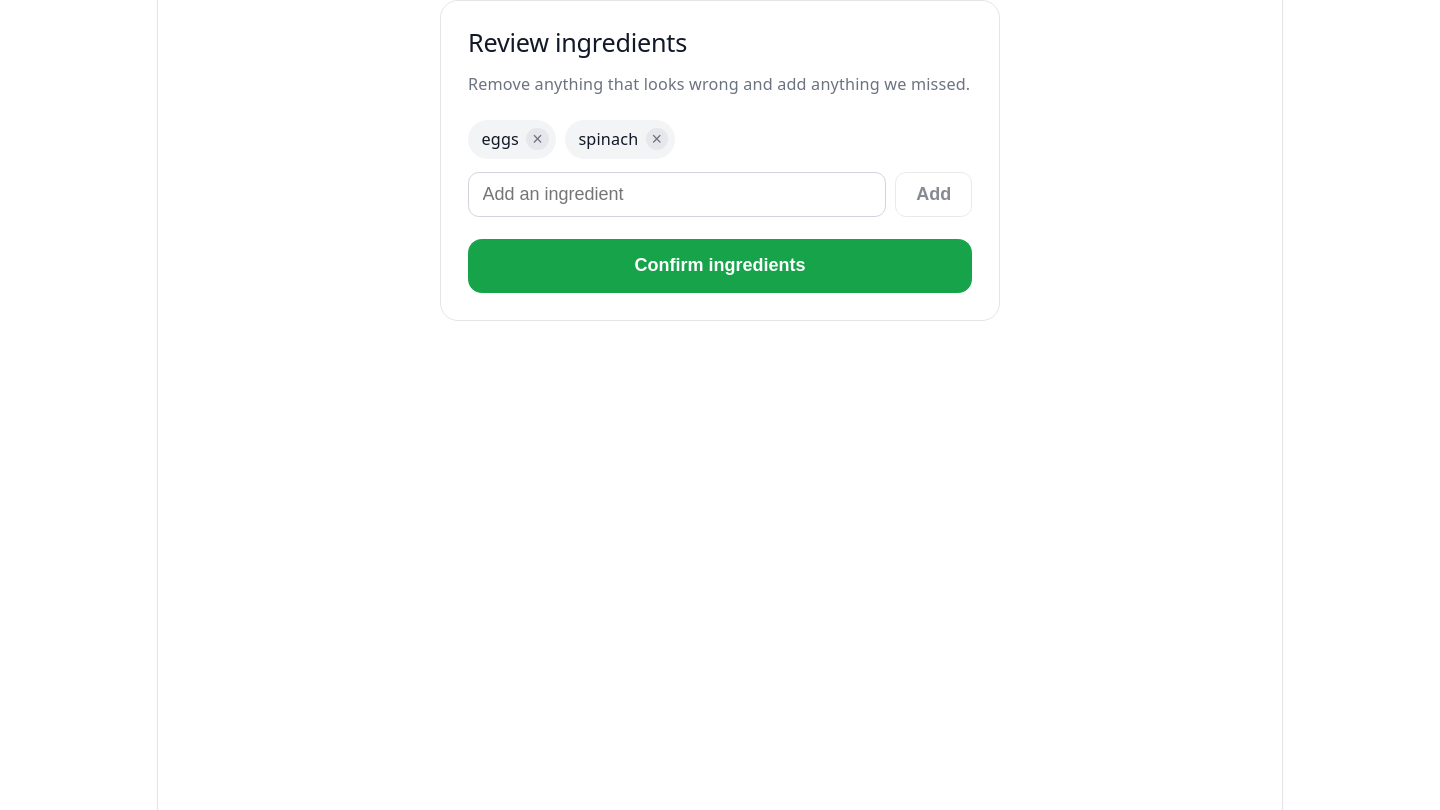
Test: IngredientReview › removes a false positive when its X is clicked
Click the button named "Remove spinach" at (657, 139), box [646,128,668,150]
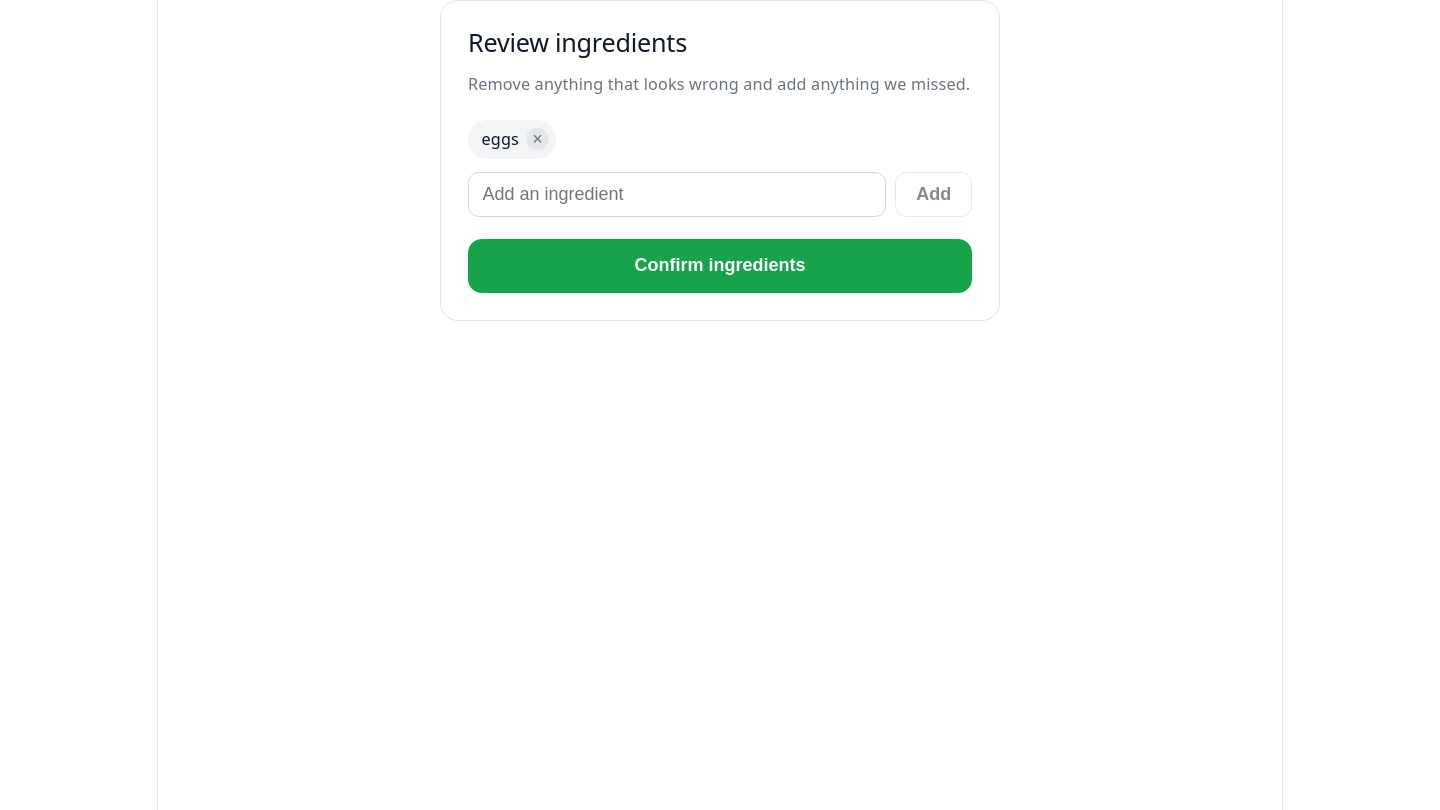
Expected: the text "eggs" is shown, [482,126,519,152]
Expected: the text "spinach" is gone
